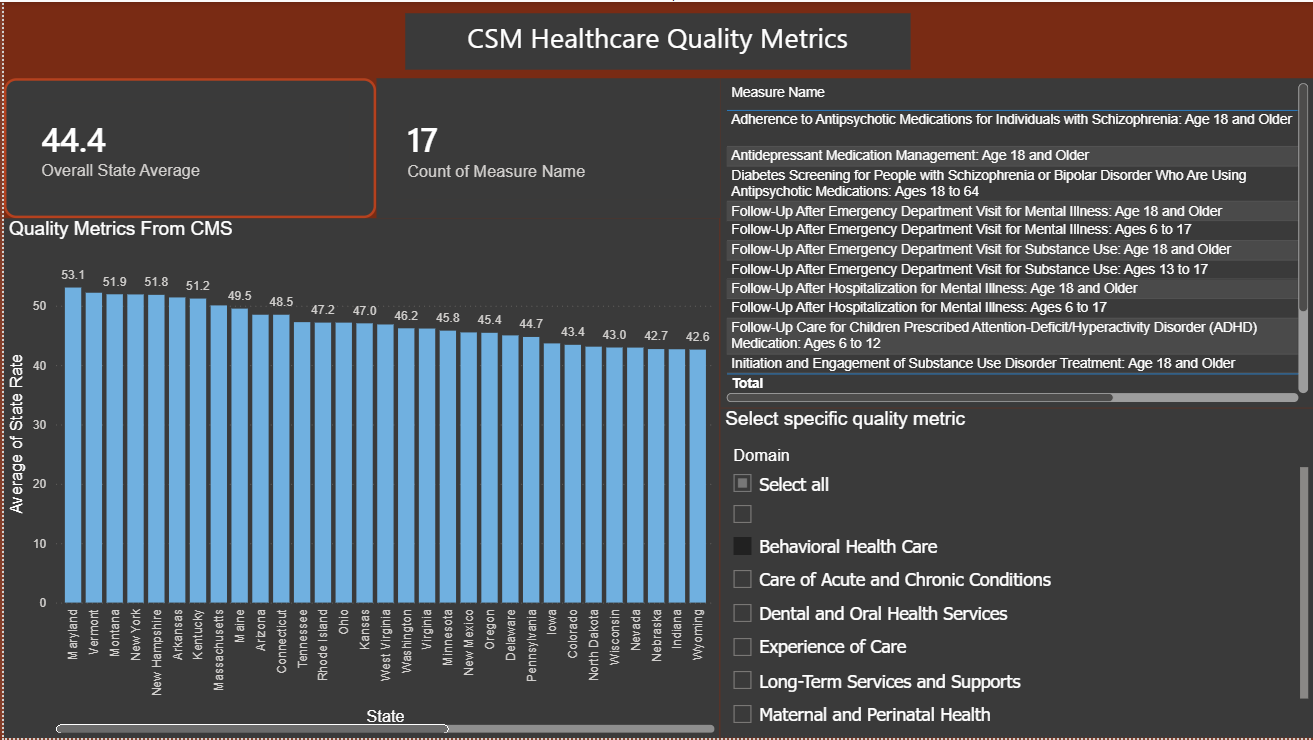

This screenshot's page, from the dashboard's own definition file:
{"tool":"powerbi","page":{"name":"Dashboard","canvas":[1280,720],"ordinal":0},"visuals":[{"type":"clusteredColumnChart","title":"Quality Metrics From CMS","fields":{"Category":["2024-child-and-adult-health-care-quality-measures.State"],"Y":["Avg(2024-child-and-adult-health-care-quality-measures.State Rate)"]},"box":[0,211.6,700.3,508.6],"z":0},{"type":"slicer","title":"Select specific quality metric","fields":{"Values":["2024-child-and-adult-health-care-quality-measures.Domain"]},"box":[700.3,398,580,322],"z":1000},{"type":"cardVisual","fields":{"Data":["Avg(2024-child-and-adult-health-care-quality-measures.State Rate)"]},"box":[0,74.6,364,137.1],"z":2000},{"type":"cardVisual","fields":{"Data":["Count(2024-child-and-adult-health-care-quality-measures.Measure Name)"]},"box":[364,74.6,336.3,136.8],"z":3000},{"type":"tableEx","fields":{"Values":["2024-child-and-adult-health-care-quality-measures.Measure Name","2024-child-and-adult-health-care-quality-measures.Domain","Sum(2024-child-and-adult-health-care-quality-measures.State Rate)"]},"box":[700.3,74.6,580,322],"z":4000},{"type":"textbox","box":[31.8,0,1216.7,74.6],"z":4001}]}

Visuals, with their boxes in screenshot pixels (x1, y1, x2, y2), scaled from the page's 1280x720 canvas onto the 1313x740 screenshot:
"Quality Metrics From CMS" clusteredColumnChart: l=0, t=217, r=718, b=739
"Select specific quality metric" slicer: l=718, t=409, r=1312, b=739
cardVisual - Avg(2024-child-and-adult-health-care-quality-measures.State Rate): l=0, t=77, r=373, b=218
cardVisual - Count(2024-child-and-adult-health-care-quality-measures.Measure Name): l=373, t=77, r=718, b=217
tableEx - 2024-child-and-adult-health-care-quality-measures.Measure Name x 2024-child-and-adult-health-care-quality-measures.Domain: l=718, t=77, r=1312, b=408
textbox: l=33, t=0, r=1281, b=77
